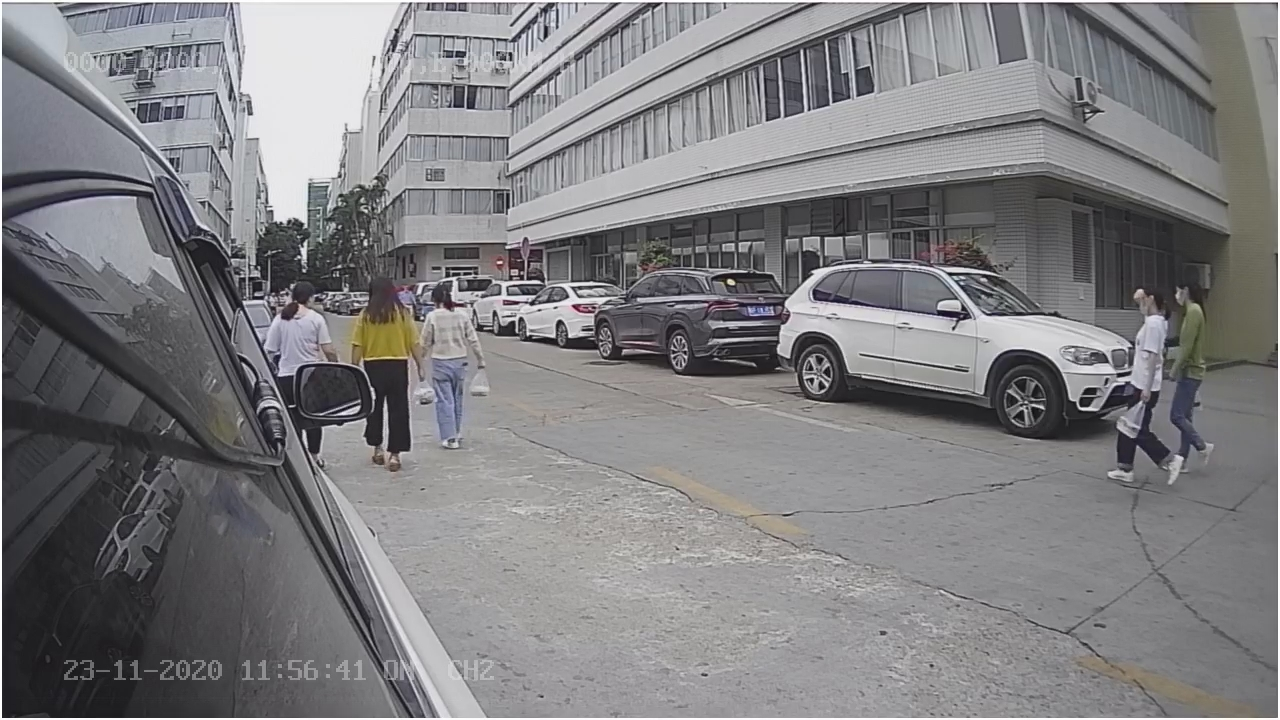person: (1106, 281, 1188, 491), (350, 271, 429, 478), (417, 280, 492, 454), (1170, 275, 1222, 481), (261, 278, 344, 362)
